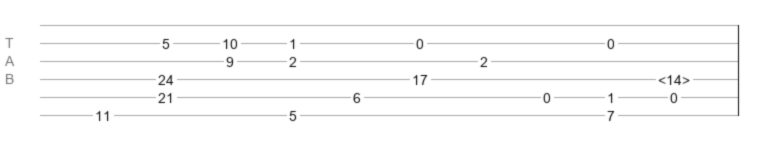0: (416, 36, 424, 46), (543, 90, 551, 100), (607, 36, 615, 46), (670, 90, 678, 100)
1: (289, 36, 297, 46), (607, 90, 615, 100)
10: (222, 36, 238, 46)
11: (95, 108, 111, 118)
17: (412, 72, 428, 82)
2: (289, 54, 297, 64), (480, 54, 488, 64)
21: (158, 90, 174, 100)
24: (158, 72, 174, 82)
5: (162, 36, 170, 46), (289, 108, 297, 118)
6: (353, 90, 361, 100)
7: (607, 108, 615, 118)
9: (226, 54, 234, 64)
harmonic: (658, 72, 690, 82)
